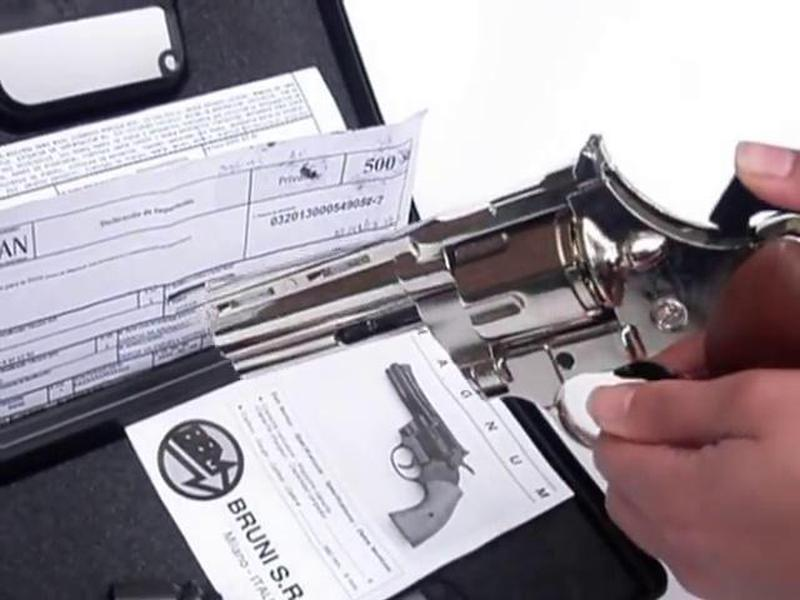Revolver: (171, 131, 761, 456)
